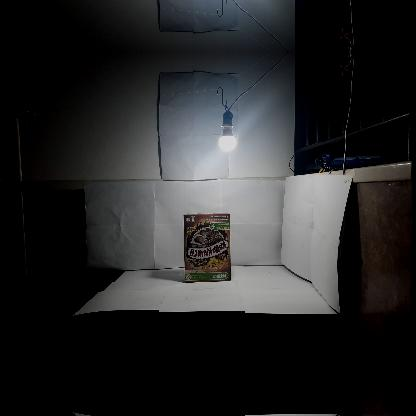Koko-Krunch: (184, 212, 230, 282)
